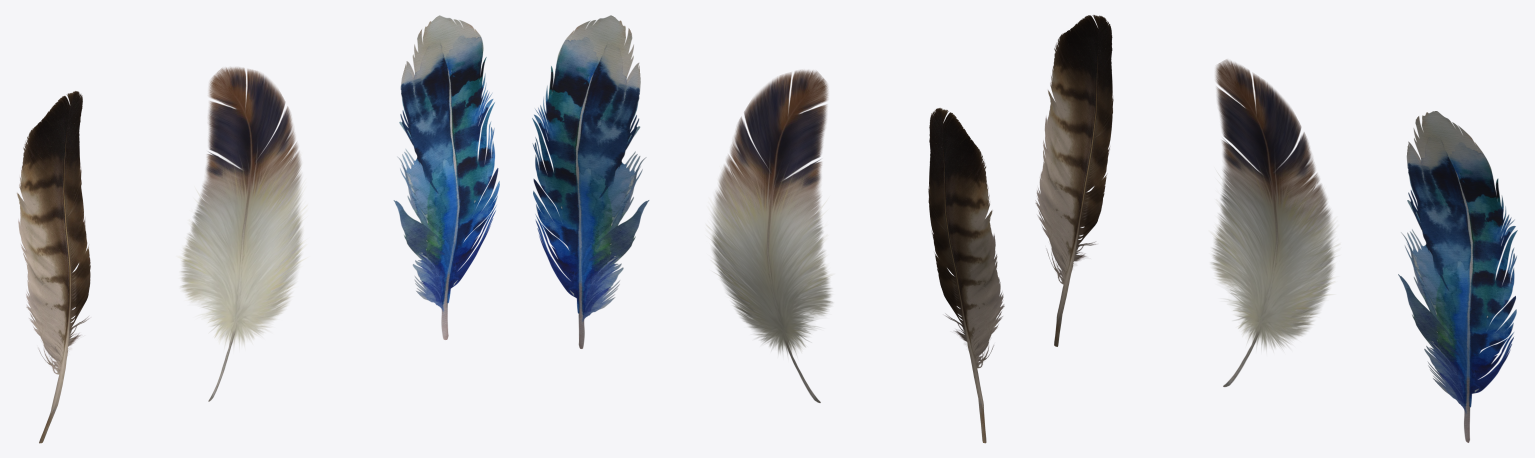
File: feathers.glb
The picture shows the model from 3 angles, left to right: view 1: azimuth 30°, elevation 25°; view 2: azimuth 150°, elevation 25°; view 3: azimuth 330°, elevation 25°; orthographic projection. The views are drawn at different scales.
Parts seen in each view (by area): view 1: Object_6, Object_8, Object_4; view 2: Object_6, Object_8, Object_4; view 3: Object_6, Object_8, Object_4.
Boxes of the visible parts, <box> form: Object_6: <box>180,67,305,401</box>; Object_8: <box>393,15,499,339</box>; Object_4: <box>17,91,90,443</box>; Object_6: <box>708,70,832,402</box>; Object_8: <box>532,15,649,348</box>; Object_4: <box>928,108,1004,443</box>; Object_6: <box>1211,59,1337,386</box>; Object_8: <box>1398,111,1517,442</box>; Object_4: <box>1035,15,1113,346</box>.
Size of the model in its own units: 1.48 by 1 by 0.1013.
Materials: 3 (3 with a texture image).
